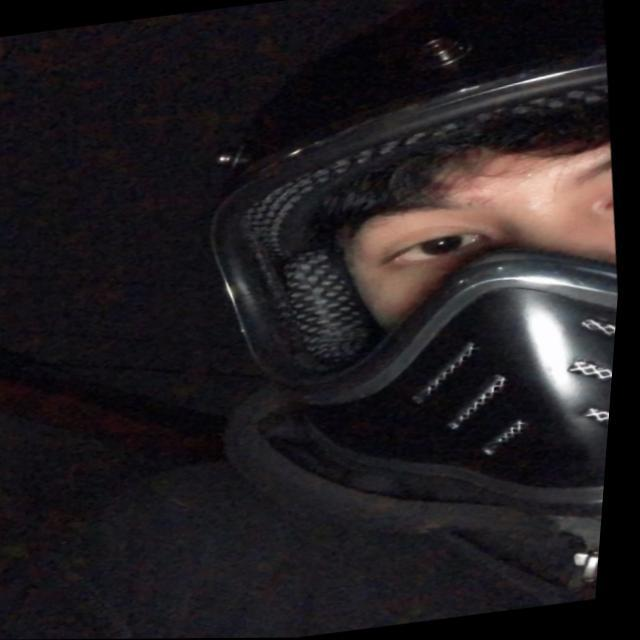Helmet: (184, 3, 624, 495)
